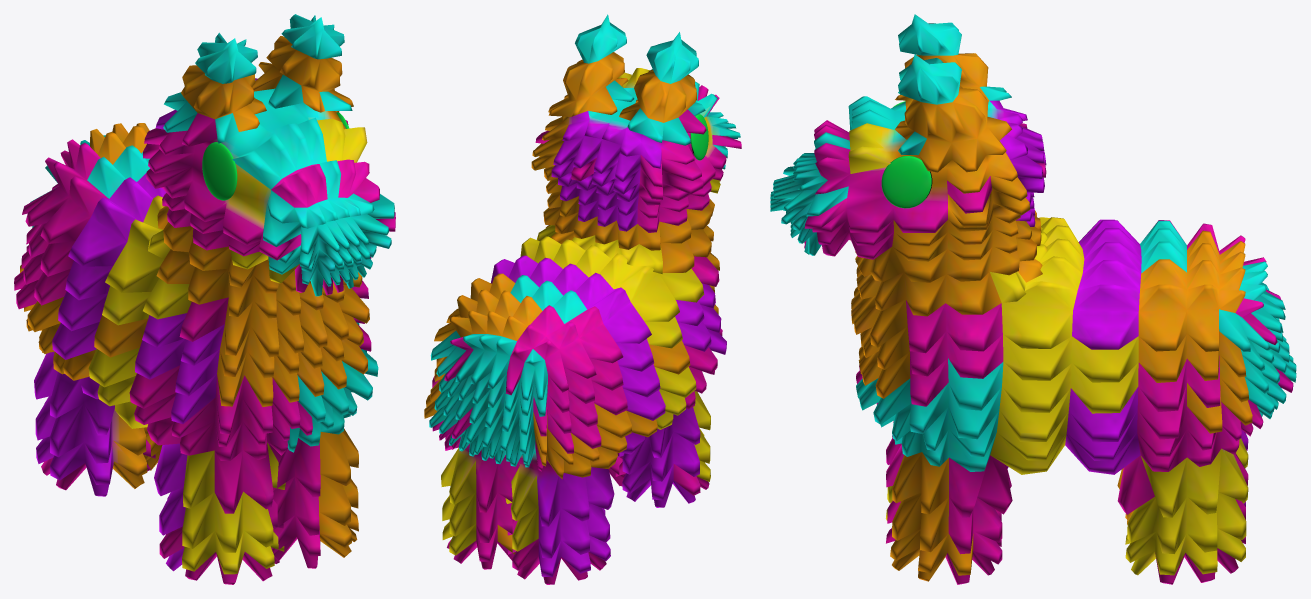
The model's file is Pinata.fbx.
3 views of the same model, side by side, from view 1: azimuth 30°, elevation 25°; view 2: azimuth 150°, elevation 25°; view 3: azimuth 270°, elevation 25° (orthographic). The views are drawn at different scales.
Parts seen in each view (by area): view 1: pinata rags; view 2: pinata rags; view 3: pinata rags.
Part boxes in pixels (left/top/right/bottom): pinata rags: left=14, top=14, right=395, bottom=584; pinata rags: left=424, top=14, right=741, bottom=584; pinata rags: left=770, top=14, right=1296, bottom=584.
Size of the model in its own units: 332 by 717 by 665.
Materials: 1 (1 with a texture image).
